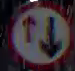Two way: (9, 1, 74, 65)
